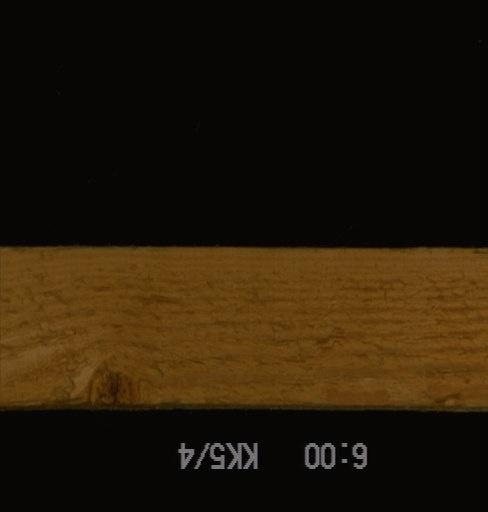edge_knot: (74, 360, 164, 407)
